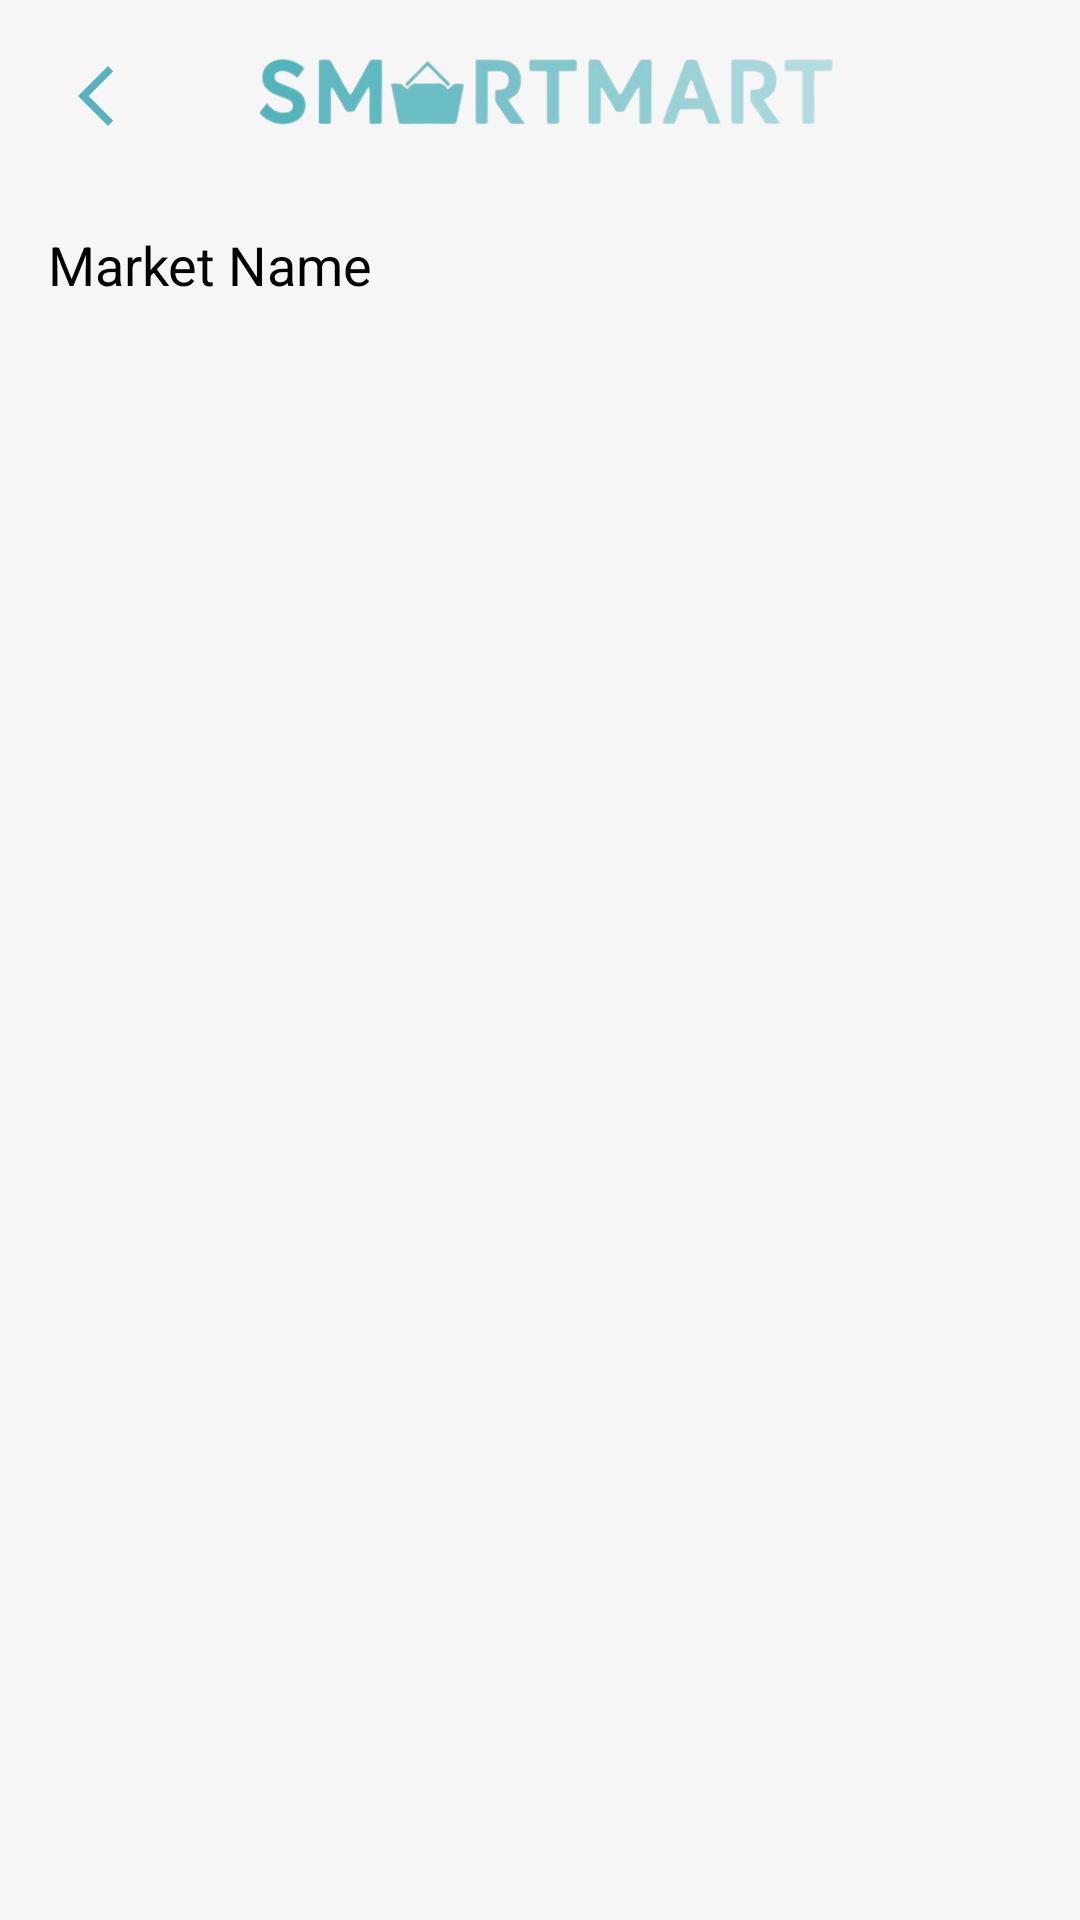

Locate icon controls on the screen. Image size 1080 x 1920, boxes as (x1, y1, x2, y2).
back: (78, 66, 113, 126)
